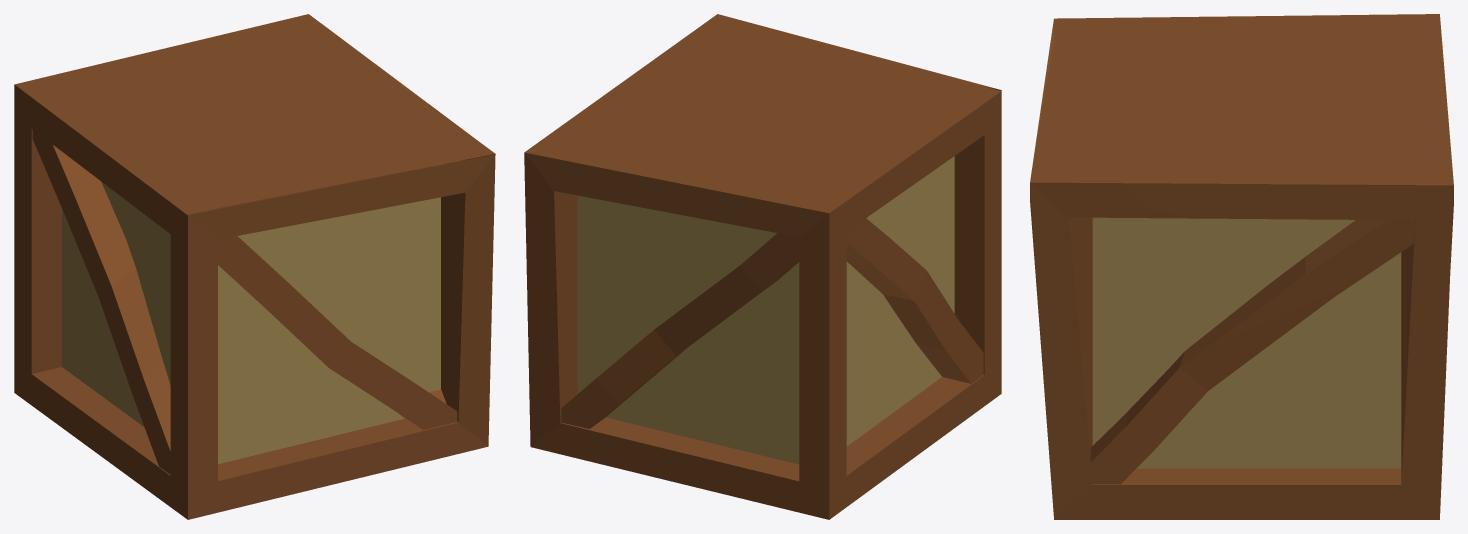
Rendered from caja Barco.fbx.
The picture shows the model from 3 angles, left to right: view 1: azimuth 30°, elevation 25°; view 2: azimuth 150°, elevation 25°; view 3: azimuth 270°, elevation 25°; orthographic projection. The views are drawn at different scales.
Parts seen in each view (by area): view 1: Cube; view 2: Cube; view 3: Cube.
Part boxes in pixels (left/top/right/bottom): Cube: left=14, top=14, right=495, bottom=519; Cube: left=524, top=14, right=1001, bottom=519; Cube: left=1030, top=14, right=1453, bottom=519.
Bounding box in the file's own units: 201 × 196 × 220.
